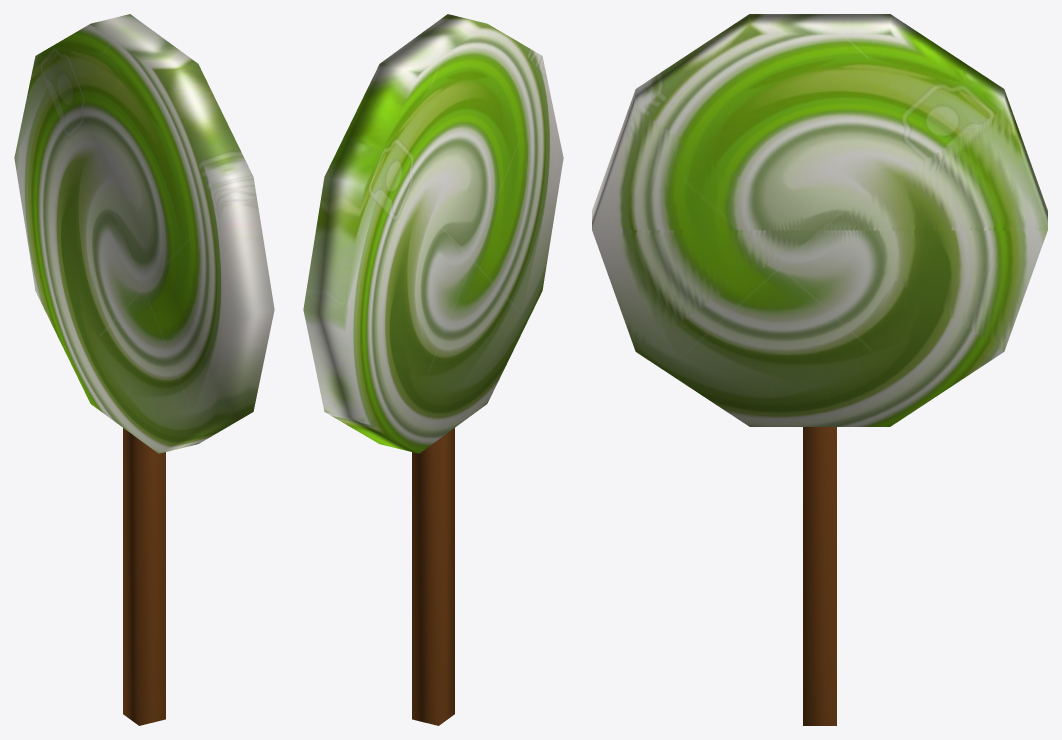
Rendered from tree_13.fbx.
3 views of the same model, side by side, from view 1: azimuth 30°, elevation 25°; view 2: azimuth 150°, elevation 25°; view 3: azimuth 270°, elevation 25° (orthographic). The views are drawn at different scales.
Visible parts, largest first — view 1: tree_13:Group2, tree_13:Group3; view 2: tree_13:Group2, tree_13:Group3; view 3: tree_13:Group2, tree_13:Group3.
Boxes of the visible parts, box(x1,y1,x2,y2) form: tree_13:Group2: box(14, 14, 274, 453); tree_13:Group3: box(123, 428, 165, 725); tree_13:Group2: box(303, 14, 563, 453); tree_13:Group3: box(412, 428, 454, 725); tree_13:Group2: box(592, 14, 1047, 426); tree_13:Group3: box(803, 427, 836, 725).
Bounding box in the file's own units: 0.7264 × 11.77 × 6.99.
